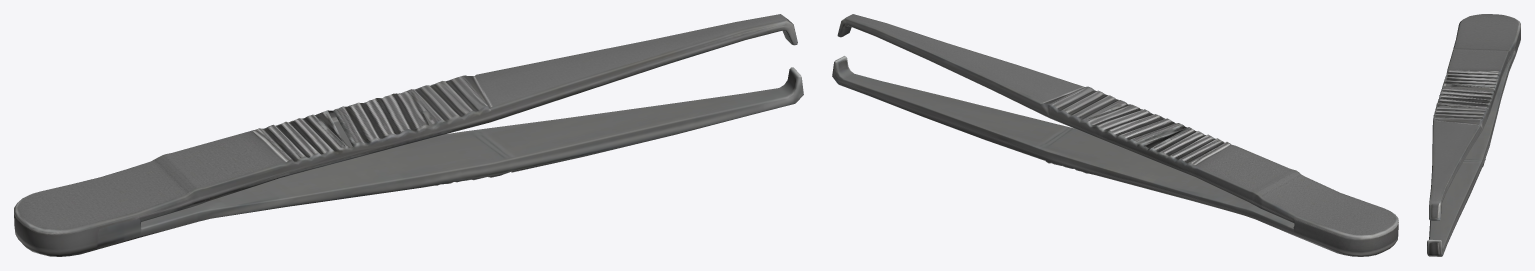
File: forceps.glb
The picture shows the model from 3 angles, left to right: view 1: azimuth 30°, elevation 25°; view 2: azimuth 150°, elevation 25°; view 3: azimuth 270°, elevation 25°; orthographic projection. The views are drawn at different scales.
Parts seen in each view (by area): view 1: forceps; view 2: forceps; view 3: forceps.
Part boxes in pixels (x1,y1,x2,y2): forceps: [14, 14, 803, 256]; forceps: [832, 14, 1398, 256]; forceps: [1427, 14, 1520, 256].
Bounding box in the file's own units: 0.21 × 0.0245 × 0.0362.
1 material, 1 textured.
